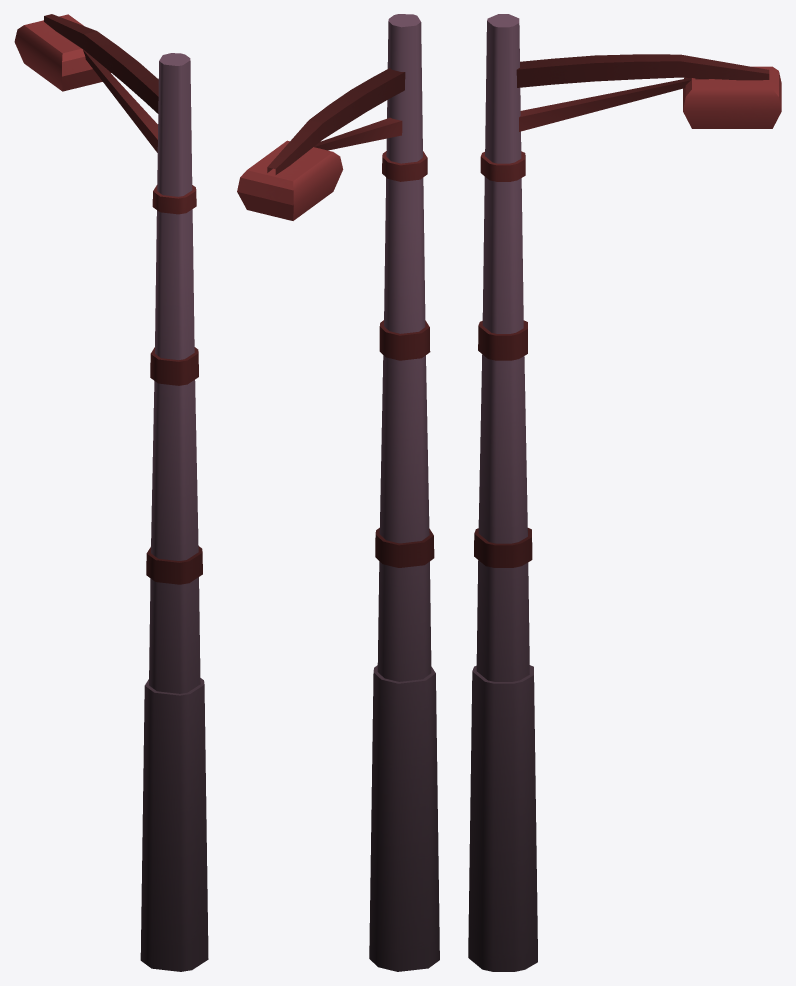
File: poste_luz.fbx
The picture shows the model from 3 angles, left to right: view 1: azimuth 30°, elevation 25°; view 2: azimuth 150°, elevation 25°; view 3: azimuth 270°, elevation 25°; orthographic projection. The views are drawn at different scales.
Parts seen in each view (by area): view 1: Poste_Luz13; view 2: Poste_Luz13; view 3: Poste_Luz13.
Boxes of the visible parts, x1,y1,x2,y2 form: Poste_Luz13: [14, 14, 208, 971]; Poste_Luz13: [237, 14, 439, 971]; Poste_Luz13: [468, 14, 781, 971].
Bounding box in the file's own units: 40.43 × 614 × 186.
